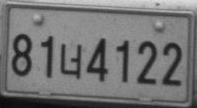1: (113, 39, 136, 83), (36, 34, 57, 78)
2: (137, 39, 157, 85), (162, 42, 182, 86)
4: (85, 37, 108, 82)
8: (10, 33, 33, 76)
너: (60, 43, 82, 79)
